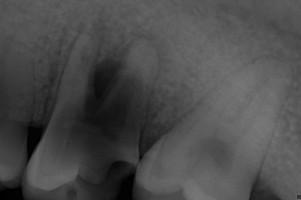Dental Caries: (86, 11, 176, 115)
